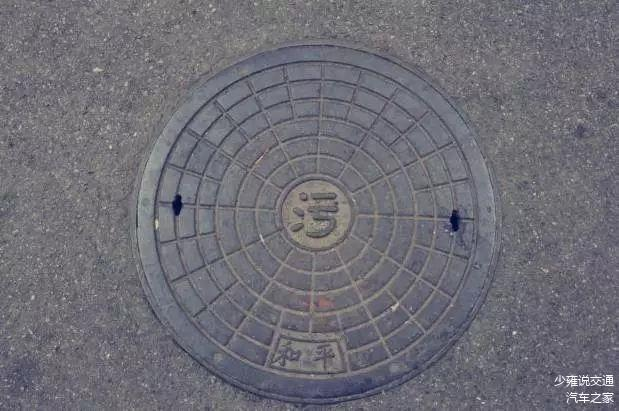wellcover: (131, 26, 504, 410)
